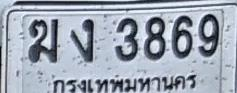3: (115, 17, 139, 61)
6: (172, 15, 193, 58)
8: (144, 16, 166, 60)
9: (198, 13, 220, 57)
A06: (28, 18, 59, 63)
A07: (70, 18, 94, 62)
BKK: (48, 72, 197, 93)
